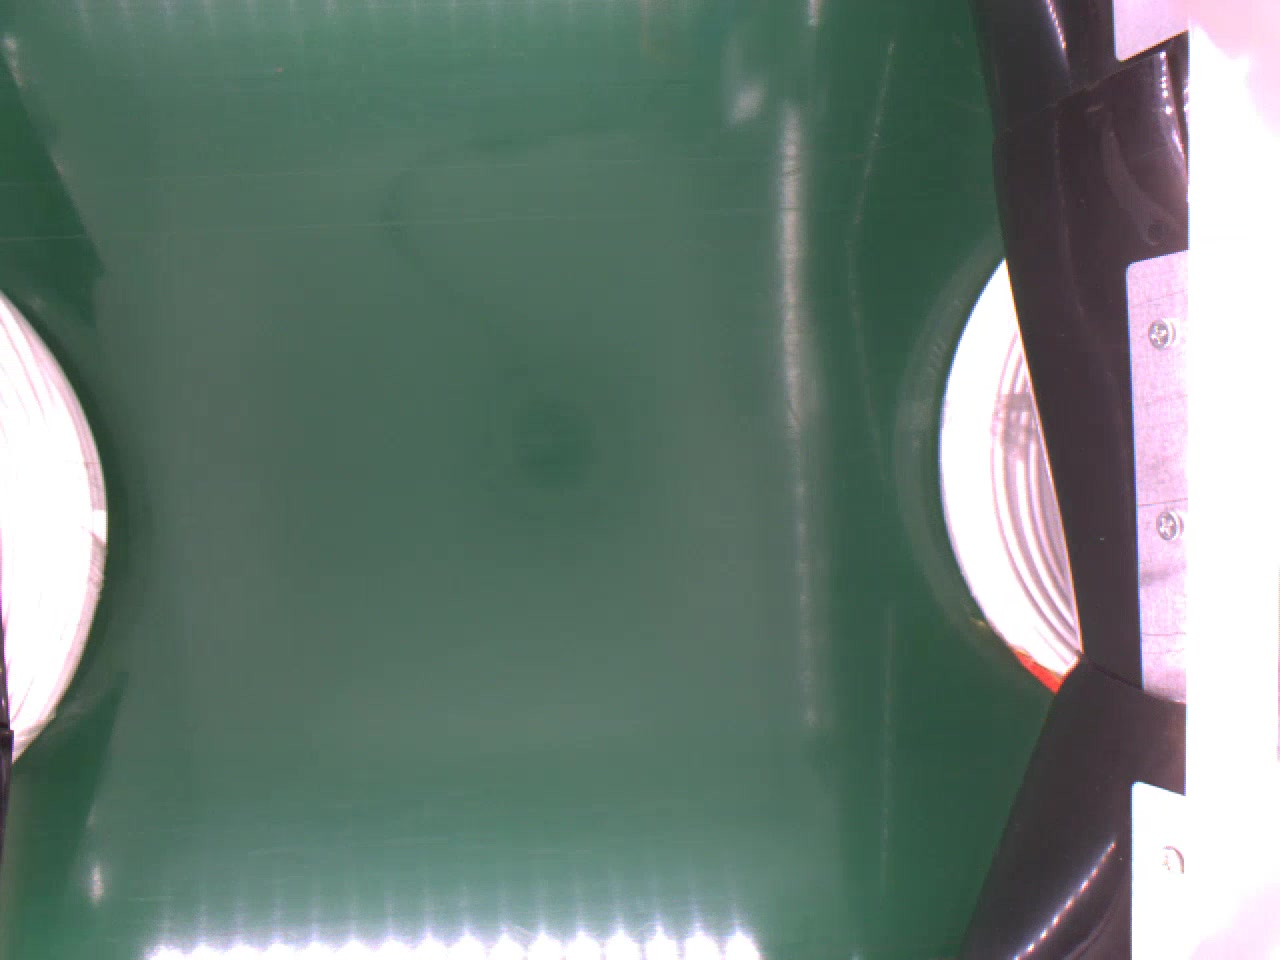white: (933, 251, 1083, 686), (0, 284, 106, 759)
